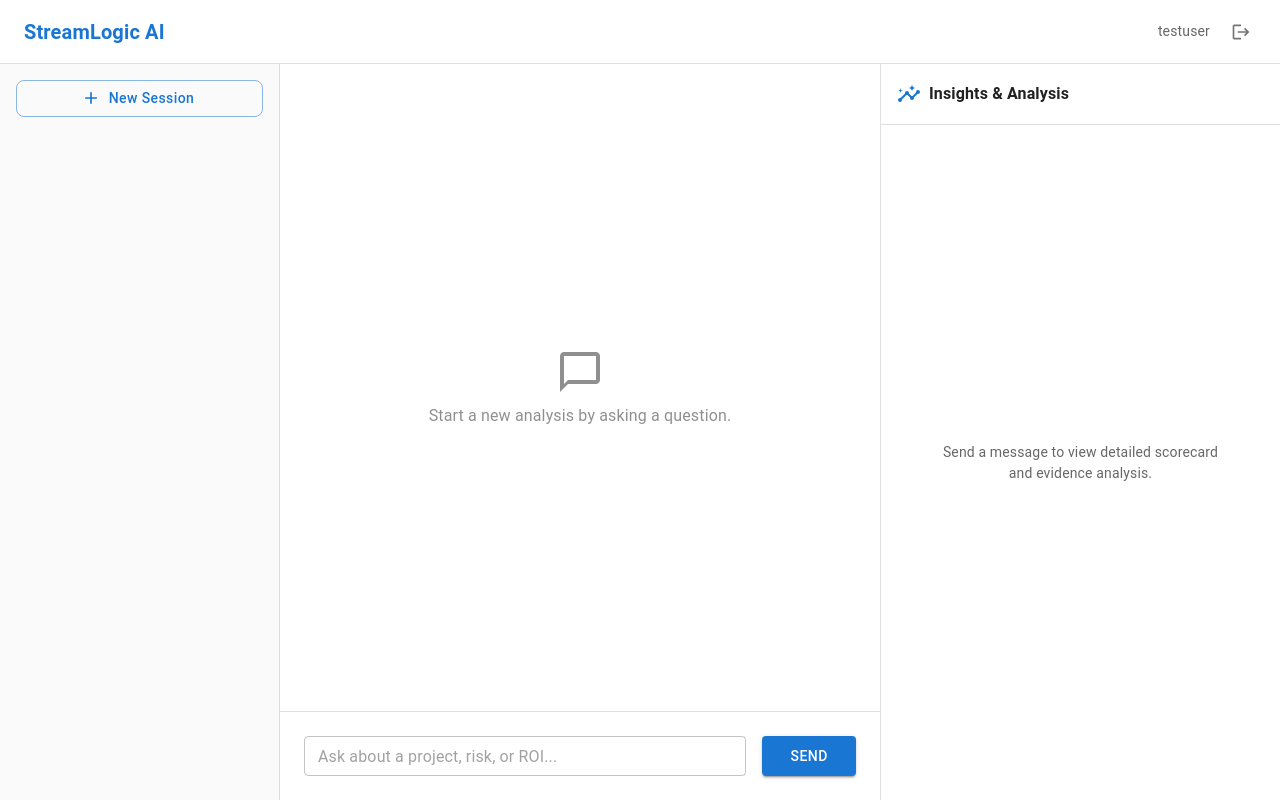
Test: App frontend integration flow › renders comparison responses when available
The image size is (1280, 800).
Step 1. Type "Compare Neon Shore and Midnight Courts" into the field with test id "chat-input" → (525, 756), box [304,736,746,776]
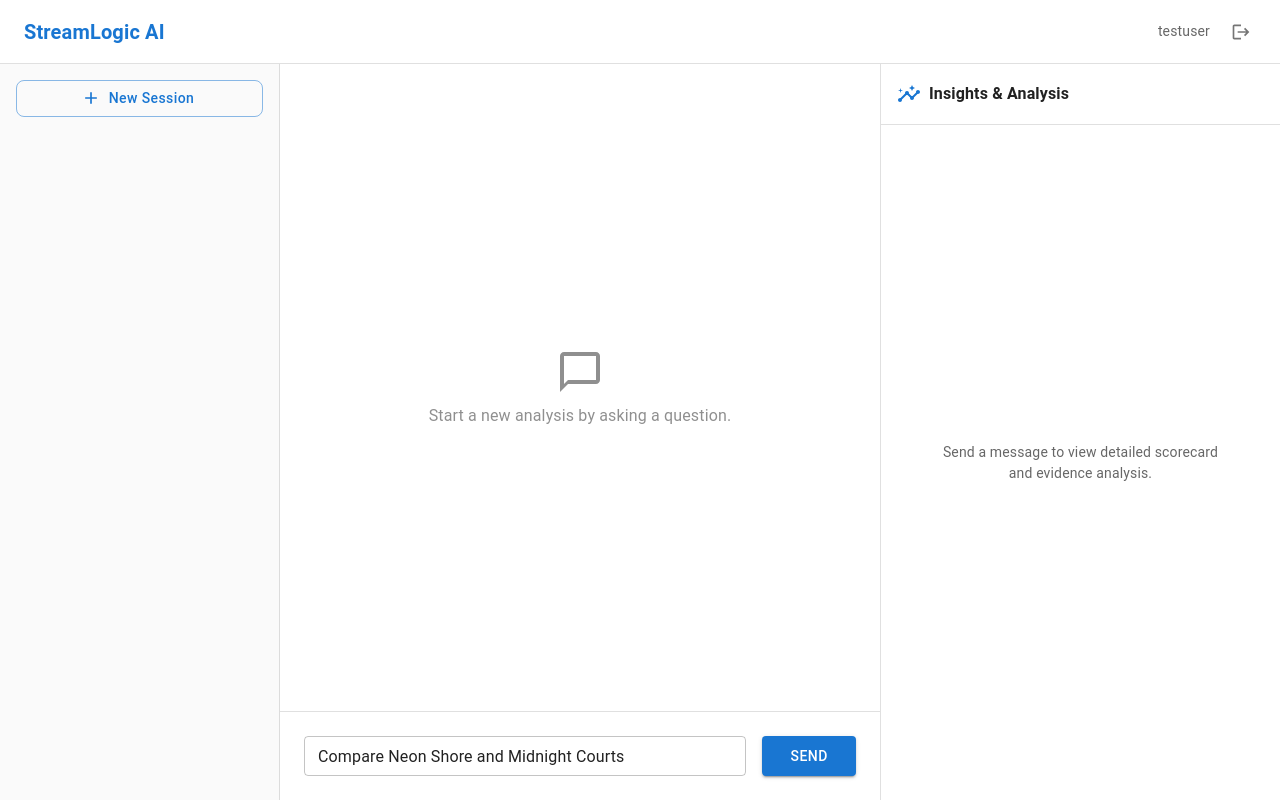
Step 2. Click the button with test id "chat-submit" → (809, 756), box [762,736,856,776]
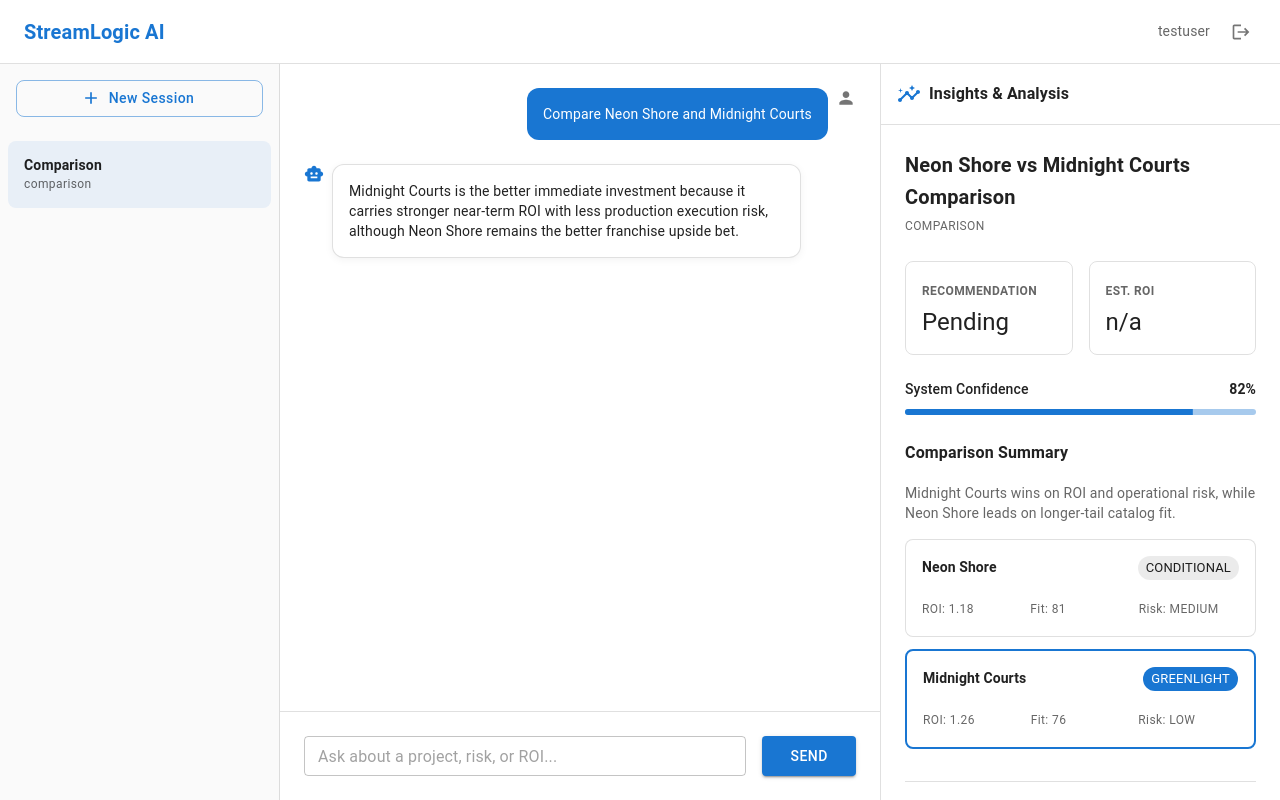
Check: the element with test id "comparison-view" is shown, box [905,439,1256,749]
Check: the element with test id "comparison-view" shows "Midnight Courts", box [923,670,1026,686]
